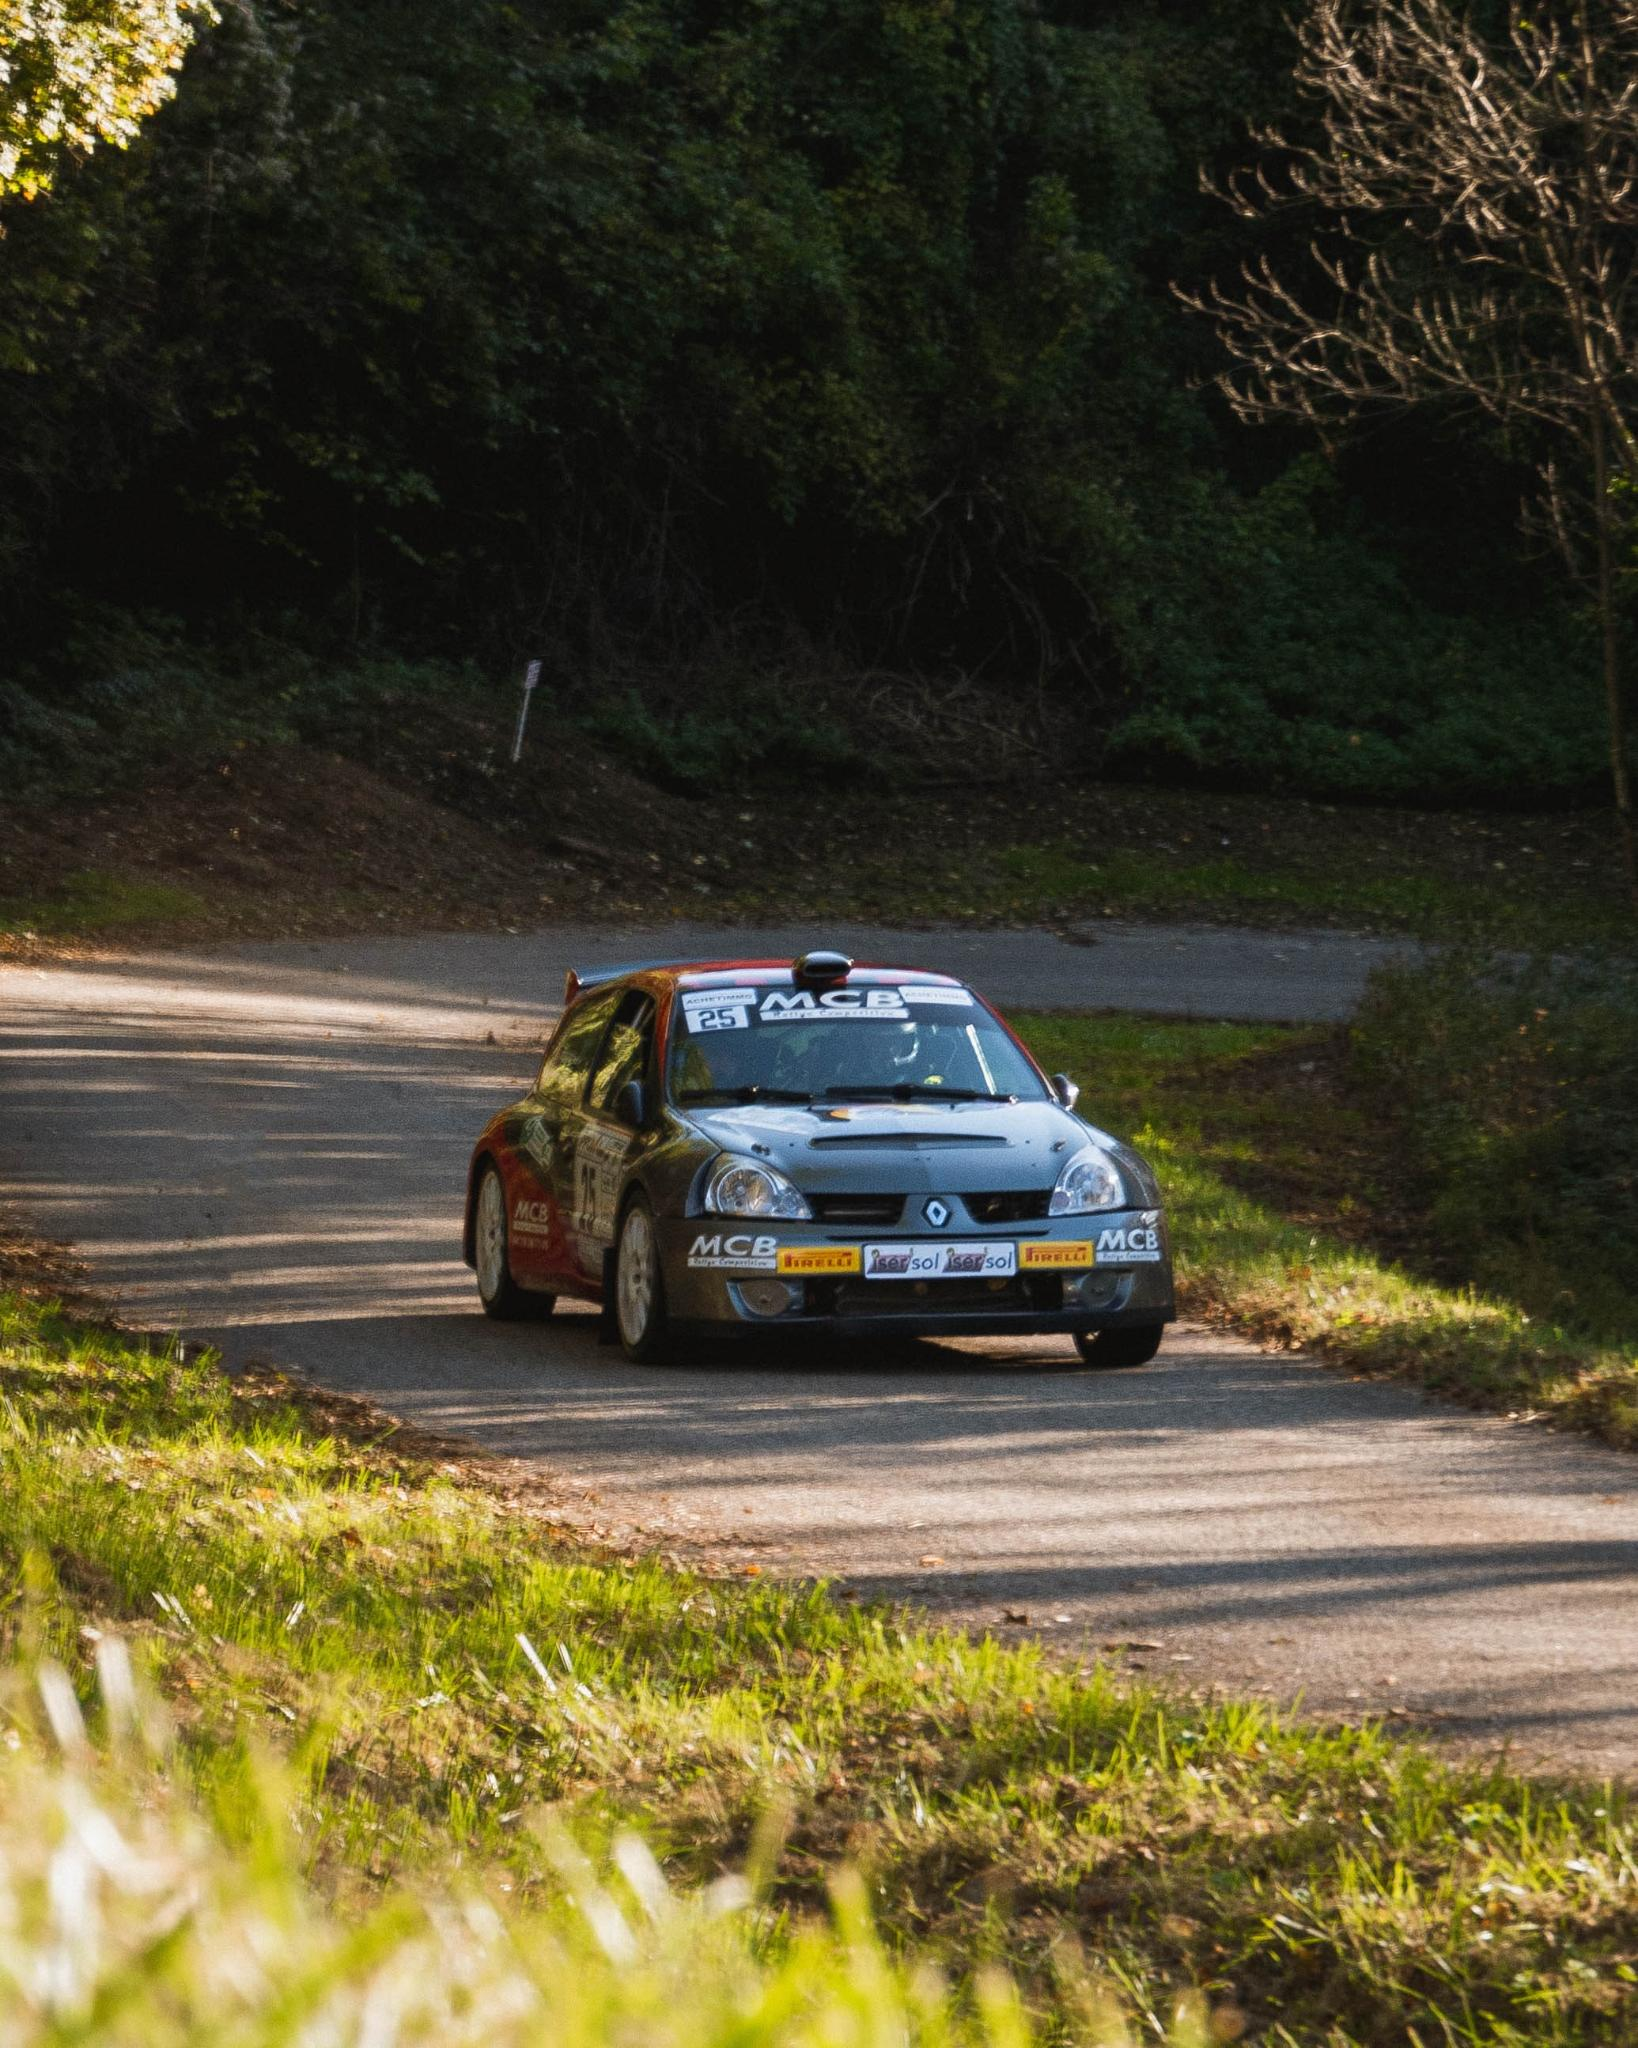Renault: (914, 1192, 963, 1239)
